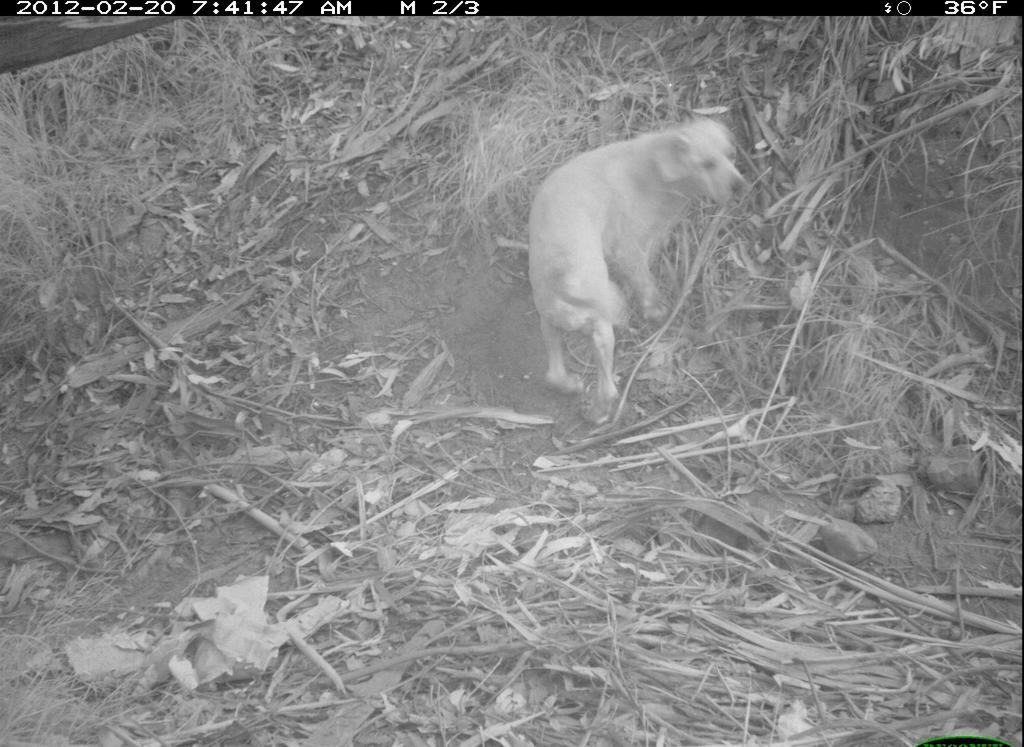dog: (514, 112, 753, 427)
